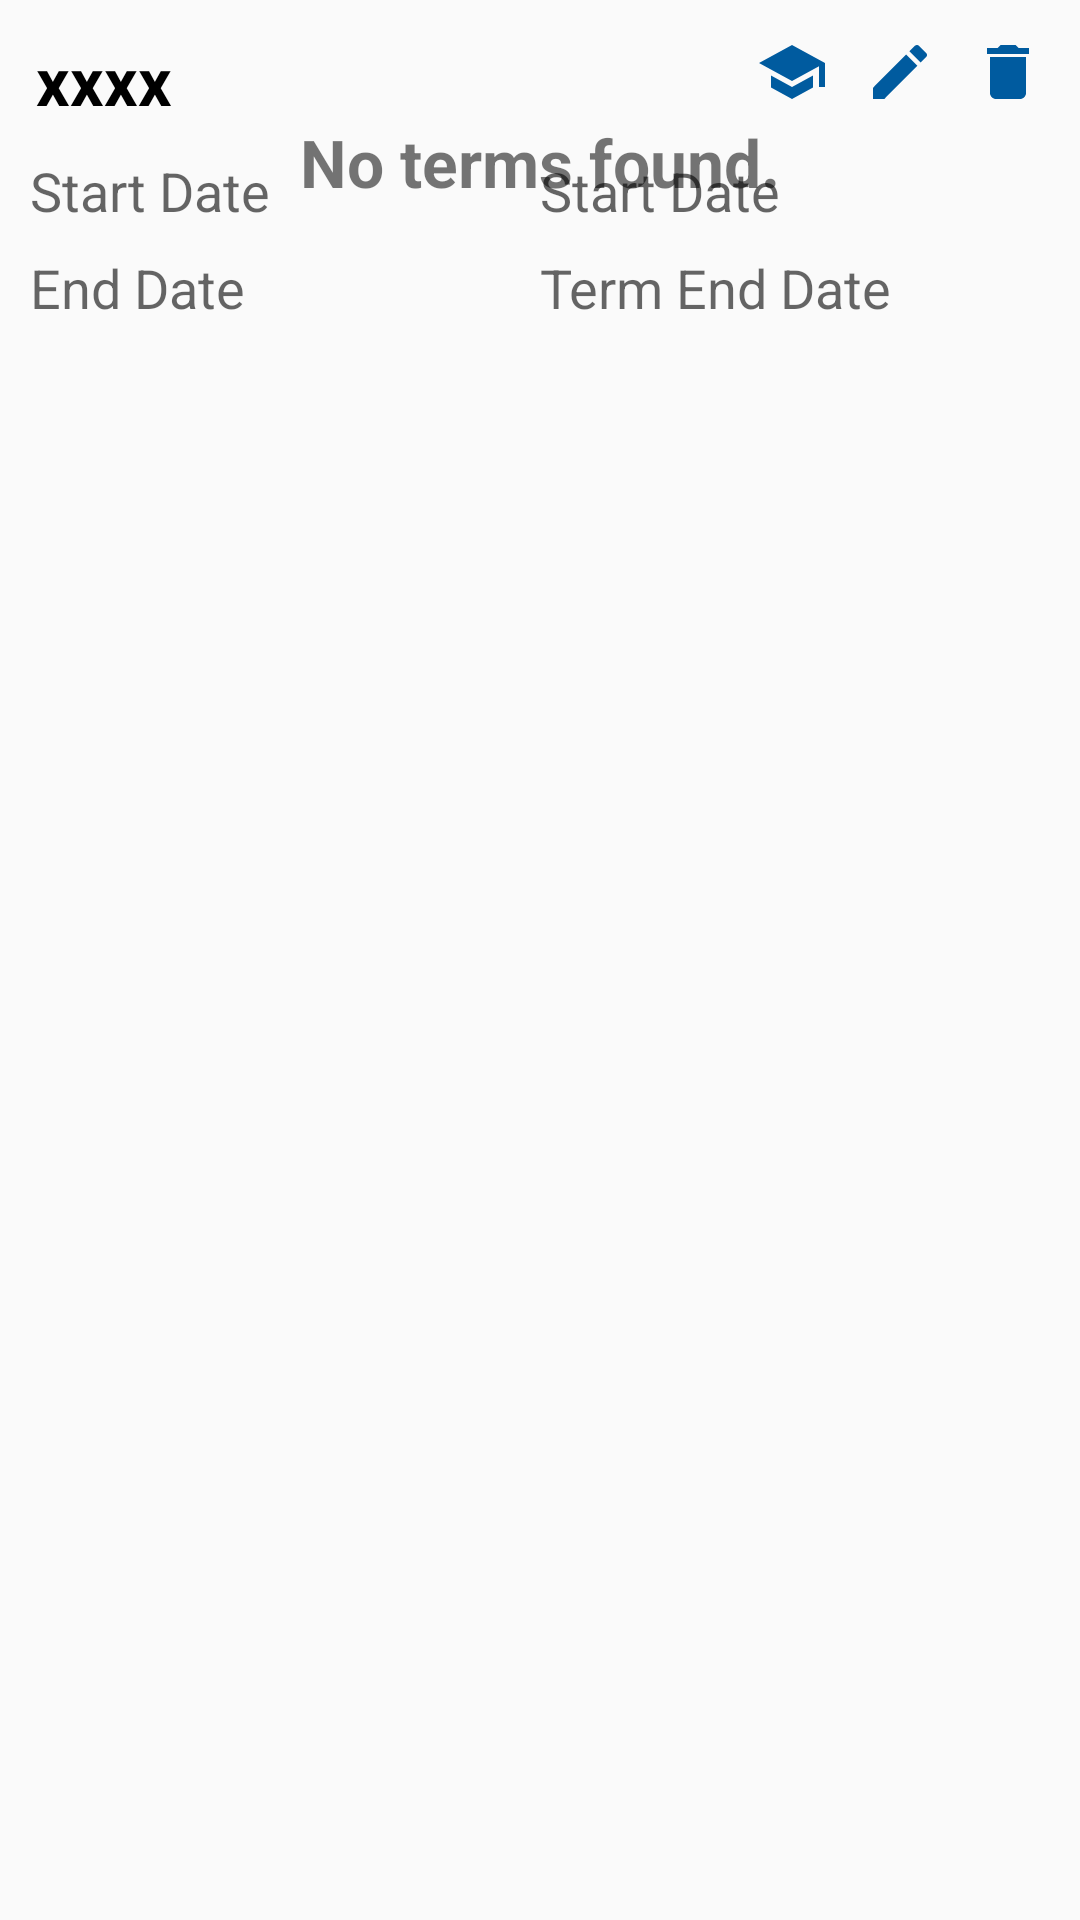

Screen size 1080×1920. Icon name, then its center in pixels as [x,y]:
delete: [1008,72]
edit: [900,72]
school: [792,72]
